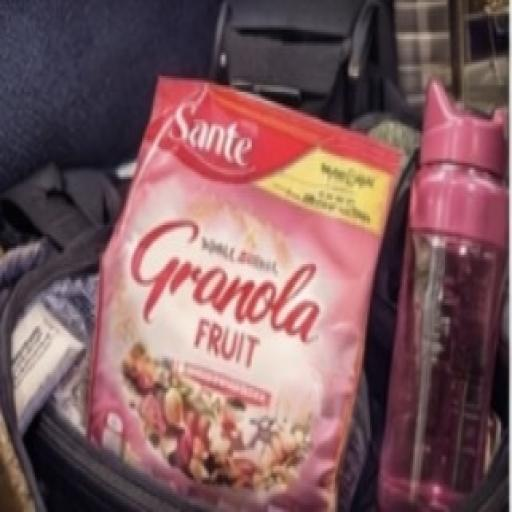granola: (78, 50, 395, 506)
